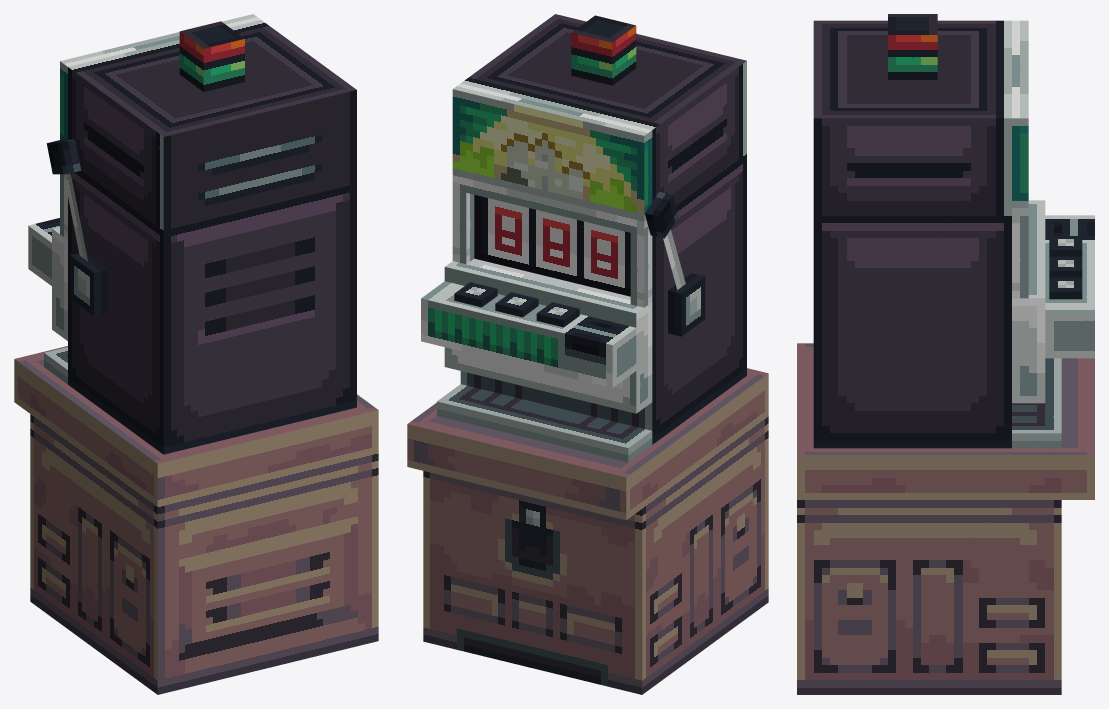
File: game_slot.gltf
The picture shows the model from 3 angles, left to right: view 1: azimuth 30°, elevation 25°; view 2: azimuth 150°, elevation 25°; view 3: azimuth 270°, elevation 25°; orthographic projection. The views are drawn at different scales.
Parts seen in each view (by area): view 1: cube (×11); view 2: cube (×16); view 3: cube (×12).
Boxes of the visible parts, <box> form: cube (×11): <box>14,14,378,694</box>; cube (×16): <box>407,14,768,694</box>; cube (×12): <box>797,14,1094,694</box>.
Bounding box in the file's own units: 1 × 2.56 × 1.12.
1 material, 1 textured.
